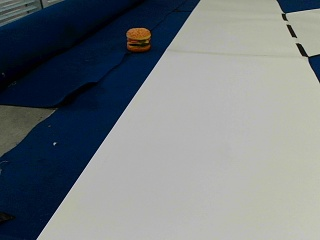burger: (126, 26, 151, 51)
